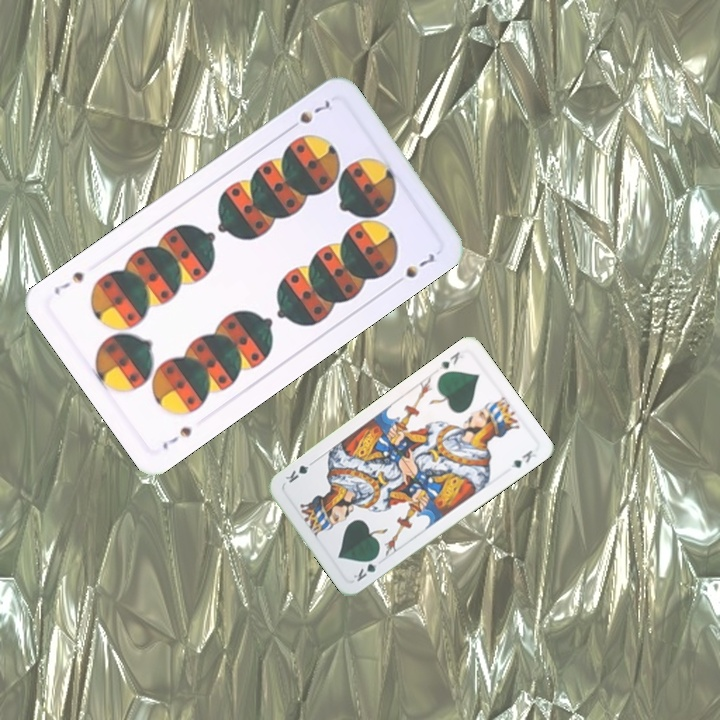GK: (349, 552, 381, 584), (435, 347, 462, 373)
S7: (283, 96, 333, 134), (158, 422, 195, 453)
